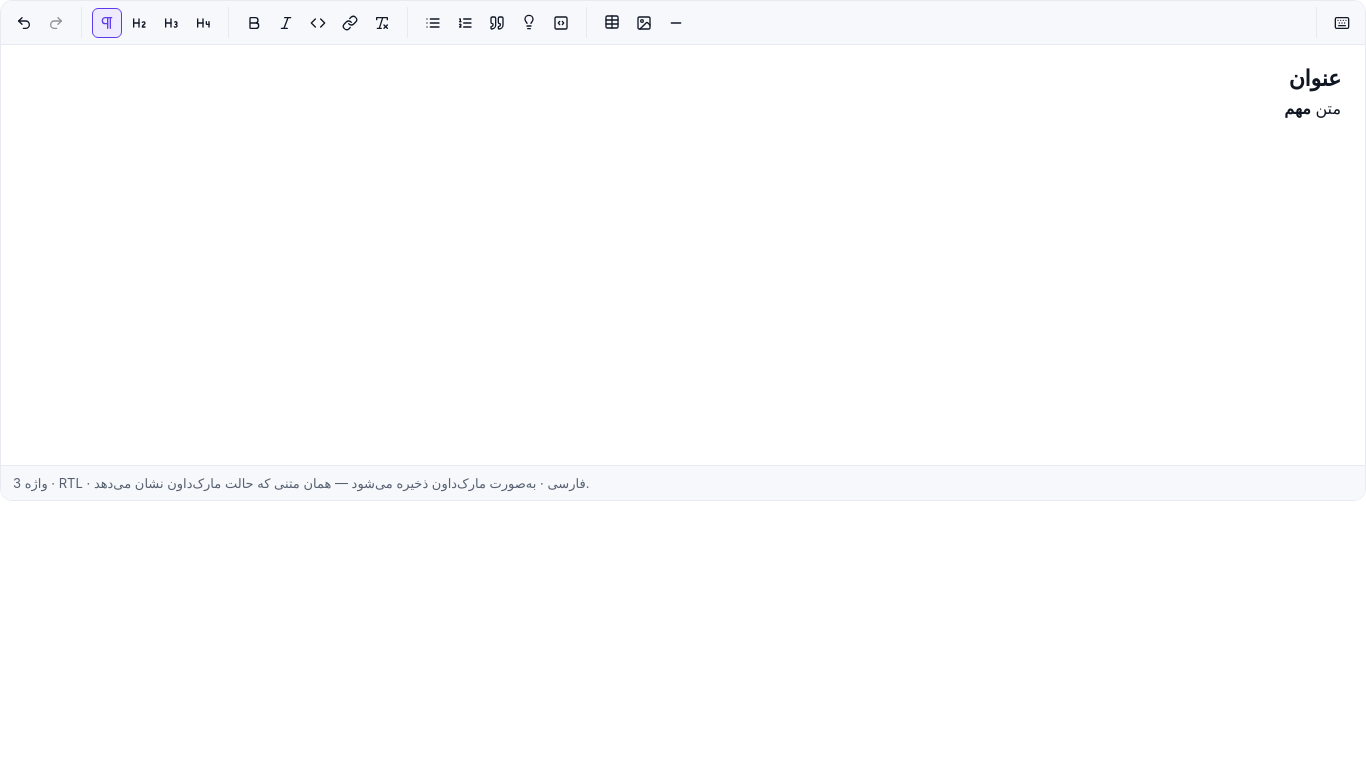
Scenario: ContentEditor › rejects unsafe link targets and accepts site-relative ones
Later steps or results of the test are not shown.
Check: the field with test id "cs-editor" is shown, box x1=1284 y1=65 x2=1341 y2=118
Click the button with test id "cs-link" at (350, 23), box x1=335 y1=8 x2=365 y2=38
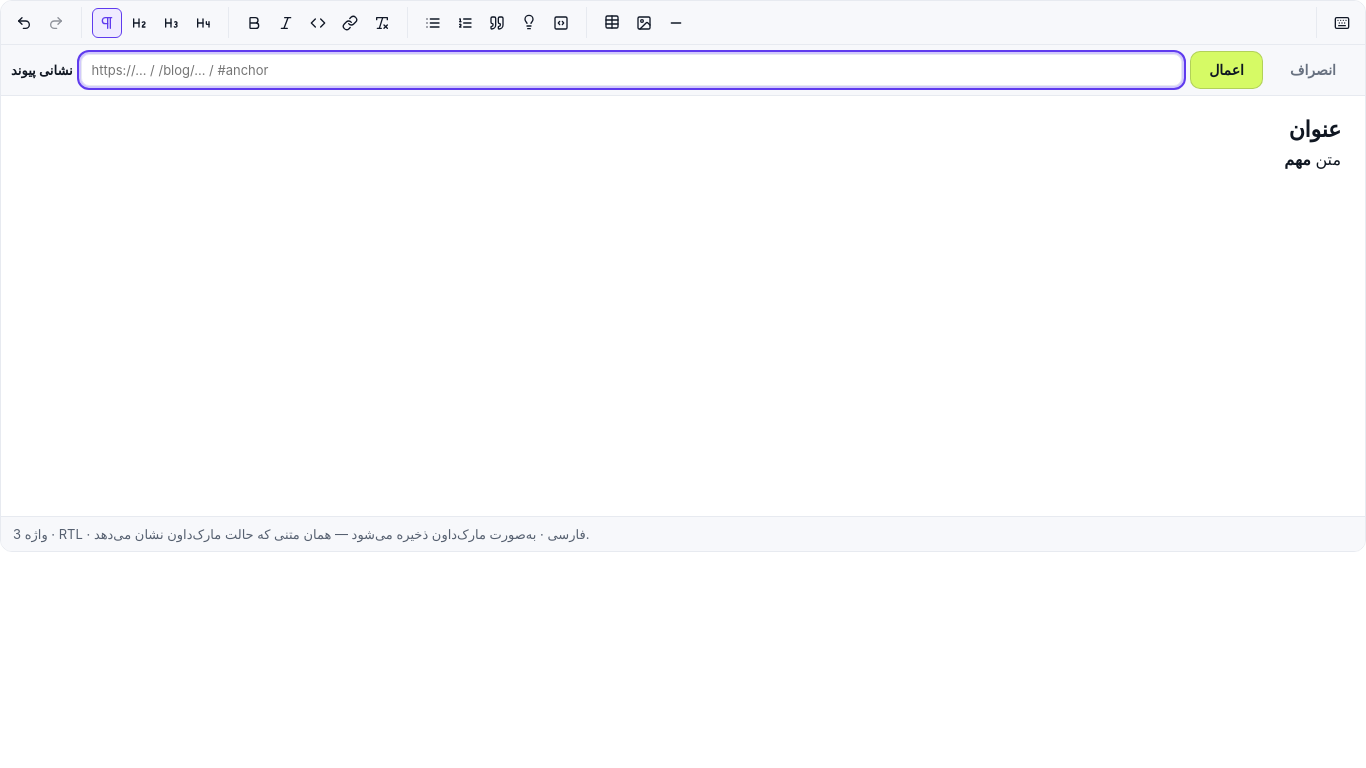
Type "javascript:alert(1)" into the field labelled "نشانی پیوند" at (631, 70), box x1=81 y1=54 x2=1182 y2=86
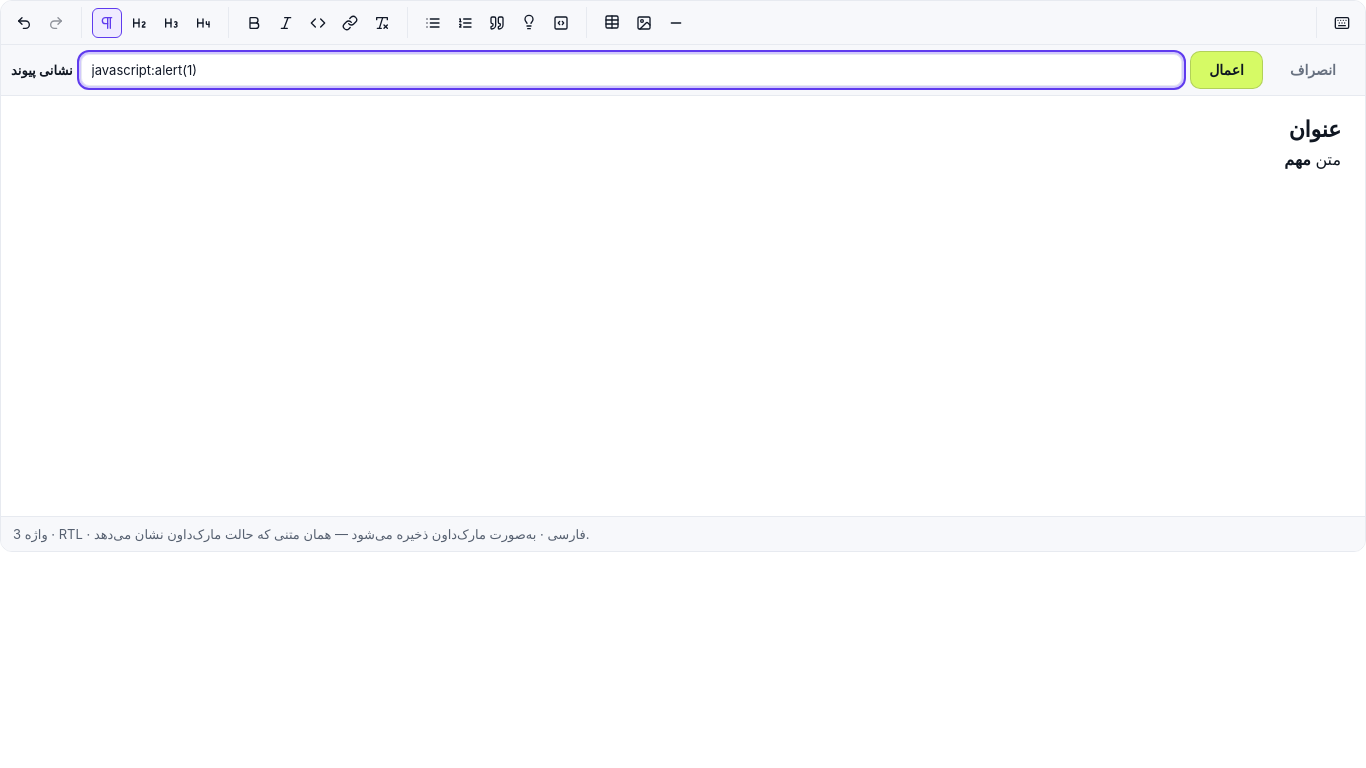
Submit the form with test id "cs-link-form", box x1=1 y1=45 x2=1365 y2=96
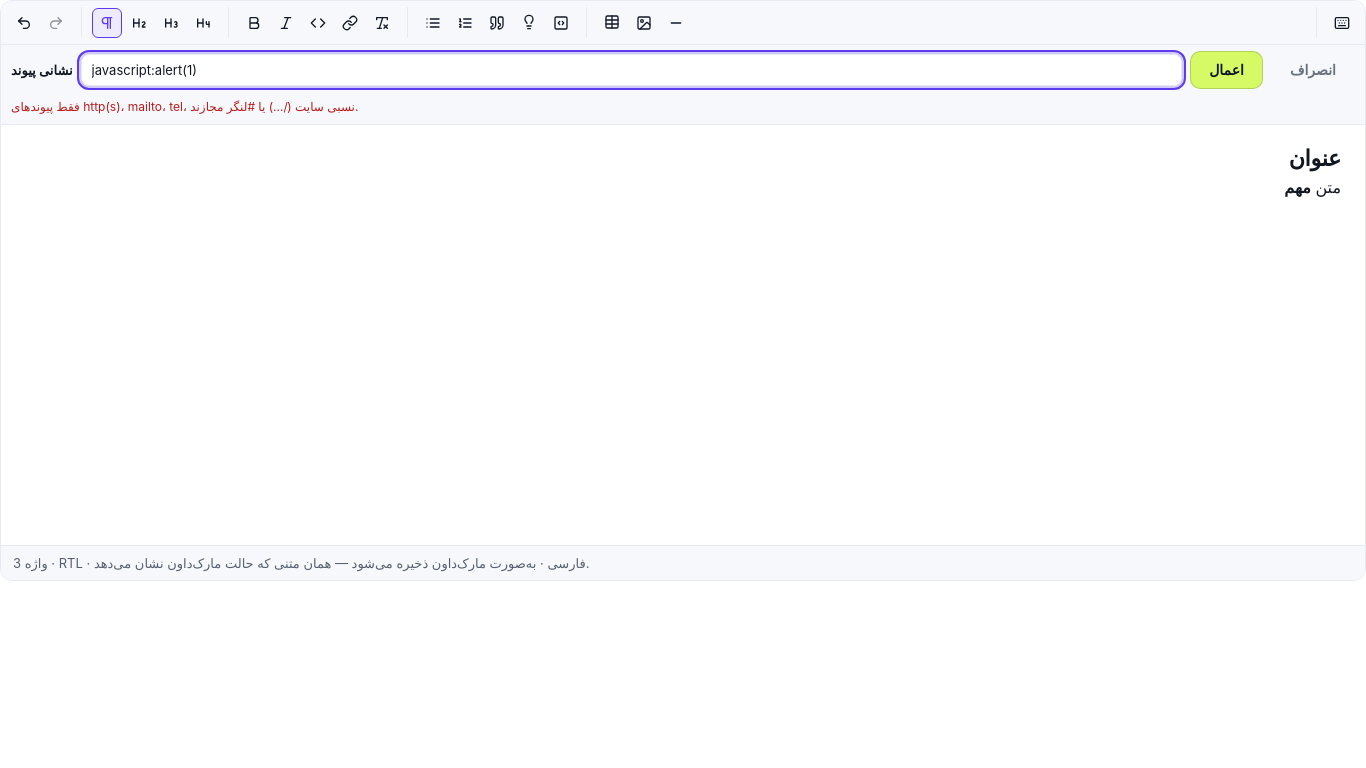
Check: the message shows "http(s)", box x1=11 y1=99 x2=358 y2=114
